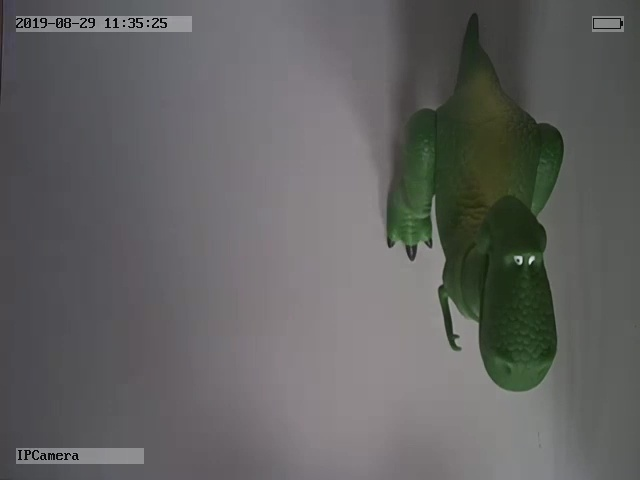rex: (386, 9, 564, 391)
